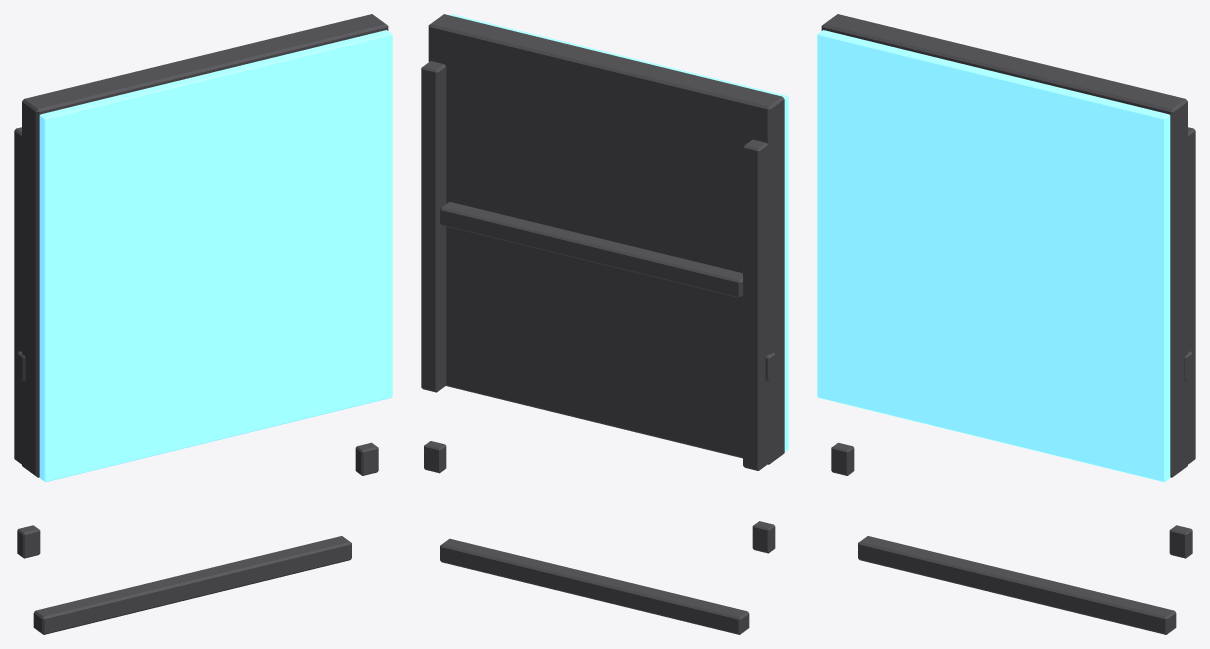
Rendered from penguin_single.glb.
3 renders of one model, left to right at view 1: azimuth 30°, elevation 25°; view 2: azimuth 150°, elevation 25°; view 3: azimuth 330°, elevation 25°, orthographic. The views are drawn at different scales.
Parts seen in each view (by area): view 1: led-wall-panel; view 2: led-wall-panel; view 3: led-wall-panel.
Part boxes in pixels (x1,y1,x2,y2): led-wall-panel: (14,14,392,634); led-wall-panel: (421,14,788,634); led-wall-panel: (817,14,1195,634).
Bounding box in the file's own units: 1.01 × 1.47 × 0.1541.
